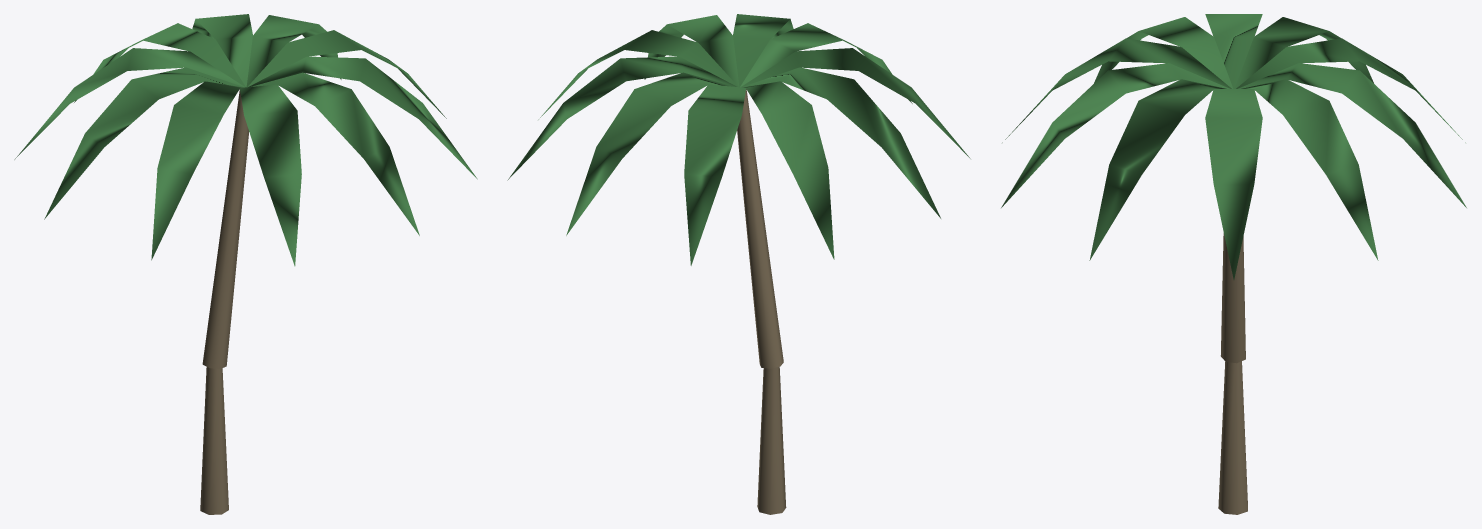
Rendered from palm.glb.
3 renders of one model, left to right at view 1: azimuth 30°, elevation 25°; view 2: azimuth 150°, elevation 25°; view 3: azimuth 270°, elevation 25°, orthographic. The views are drawn at different scales.
Visible parts, largest first — view 1: Кокосовая пальма; view 2: Кокосовая пальма; view 3: Кокосовая пальма.
Boxes of the visible parts, x1,y1,x2,y2 form: Кокосовая пальма: (14,14,477,514); Кокосовая пальма: (507,14,970,514); Кокосовая пальма: (1001,14,1466,514).
Bounding box in the file's own units: 8.2 × 8.5 × 7.8.
